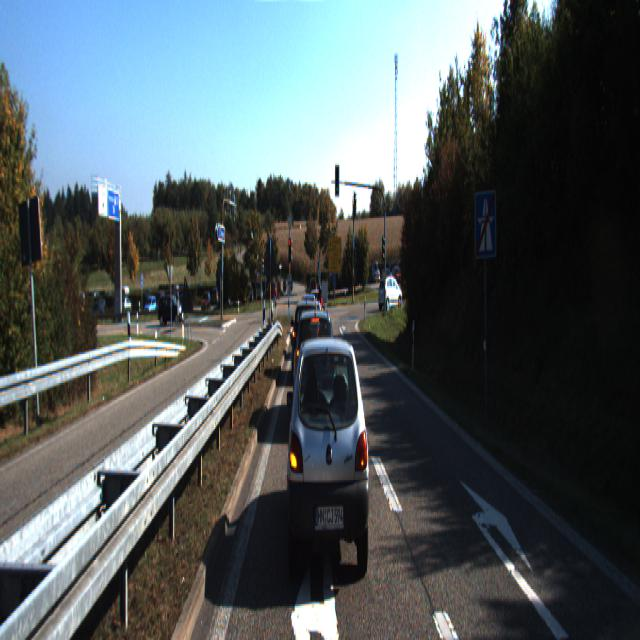Car: (286, 322, 375, 590), (292, 307, 338, 437), (378, 276, 402, 310)
